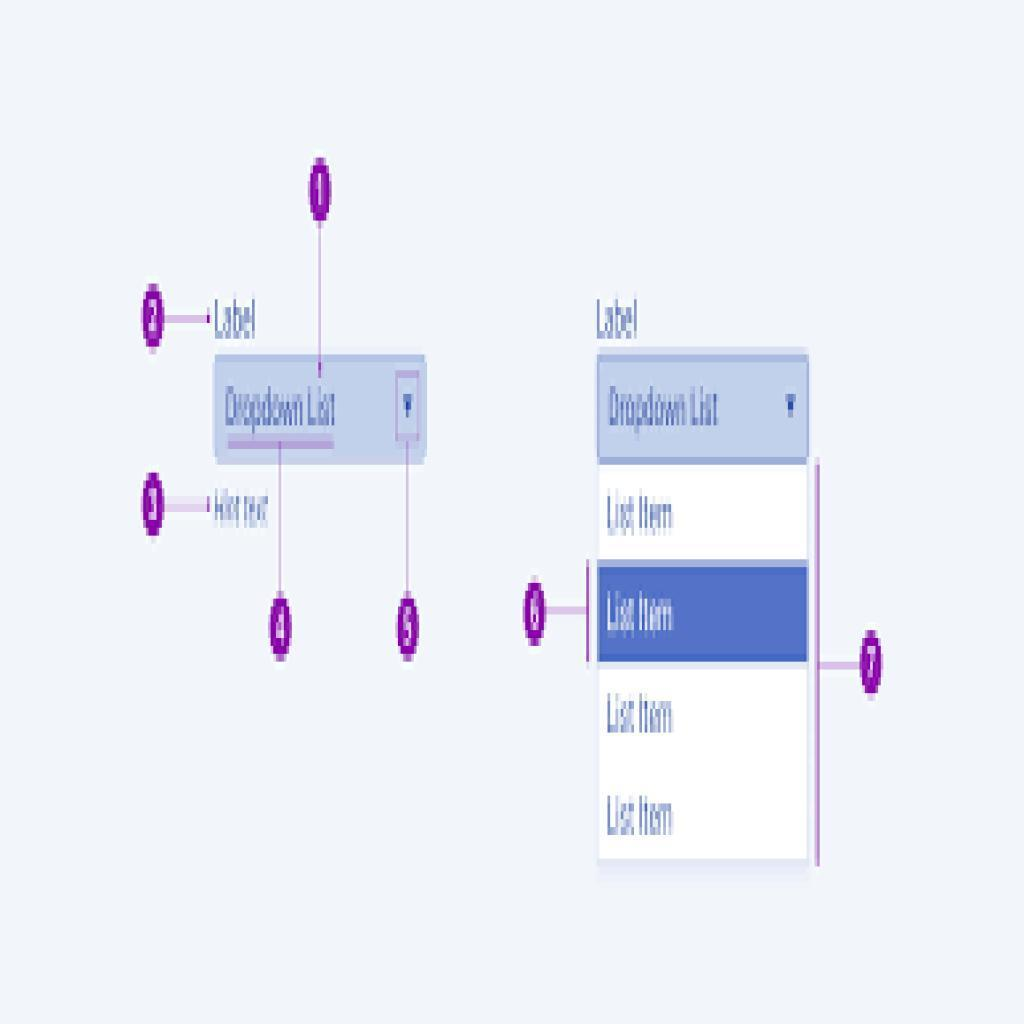button: (597, 561, 808, 664)
dropdown: (601, 355, 809, 464), (216, 358, 427, 465)
